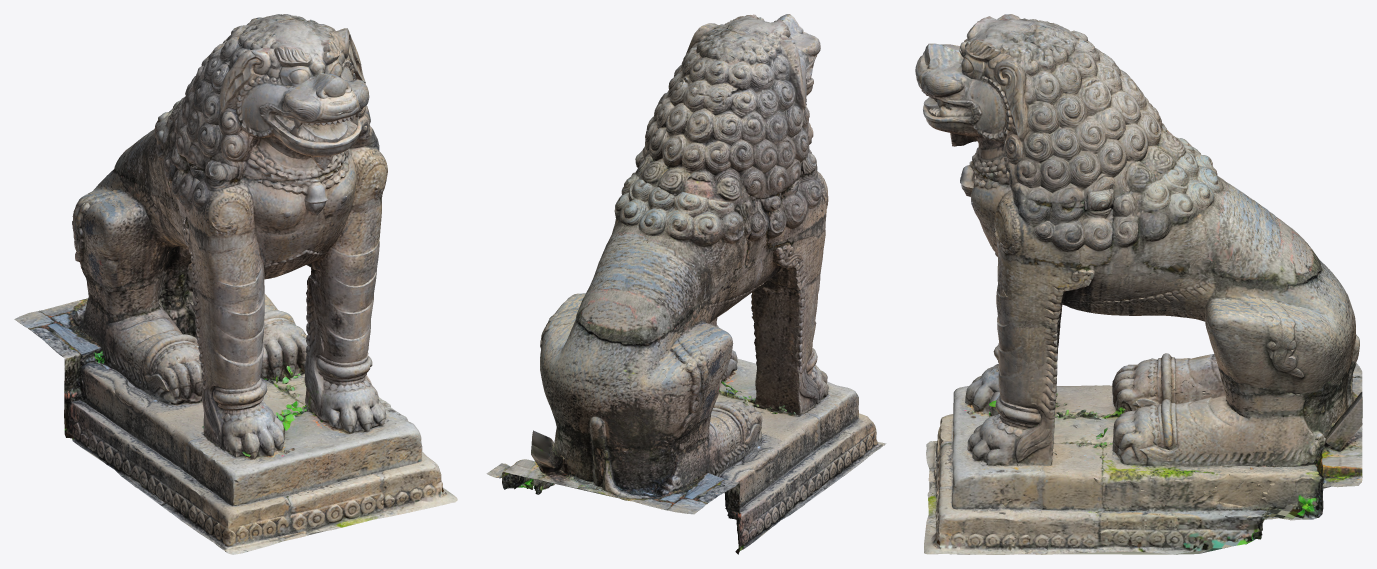
Rendered from patan_dhoka_lion_-_nepal_heritage.glb.
The picture shows the model from 3 angles, left to right: view 1: azimuth 30°, elevation 25°; view 2: azimuth 150°, elevation 25°; view 3: azimuth 270°, elevation 25°; orthographic projection. The views are drawn at different scales.
Visible parts, largest first — view 1: Object_2; view 2: Object_2; view 3: Object_2.
Part boxes in pixels (left/top/right/bottom): Object_2: left=14, top=14, right=457, bottom=554; Object_2: left=486, top=14, right=886, bottom=554; Object_2: left=915, top=14, right=1362, bottom=554.
Size of the model in its own units: 23.71 by 46.48 by 39.71.
Materials: 1 (1 with a texture image).
